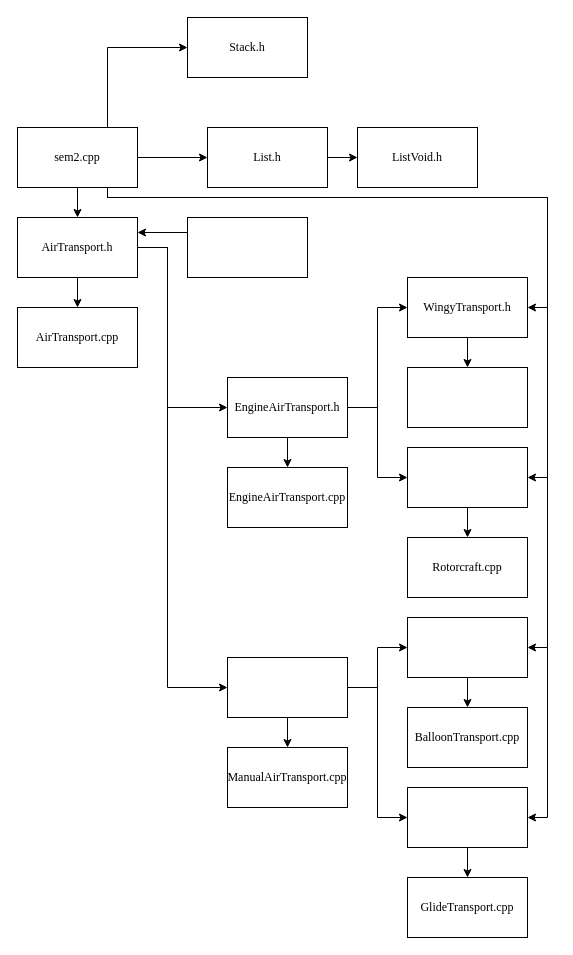
This 573x955 diagram has some shape labels left out. Here are the shapes that lost their labels. From the top down, the centre of each, then its label:
At point (247, 247): "IAirTransport.h".
At point (467, 397): "WingyTransport.cpp".
At point (467, 477): "Rotorcraftt.h".
At point (467, 647): "BalloonTransport.h".
At point (287, 687): "ManualAirTransport.h".
At point (467, 817): "GlideTransport.h".
